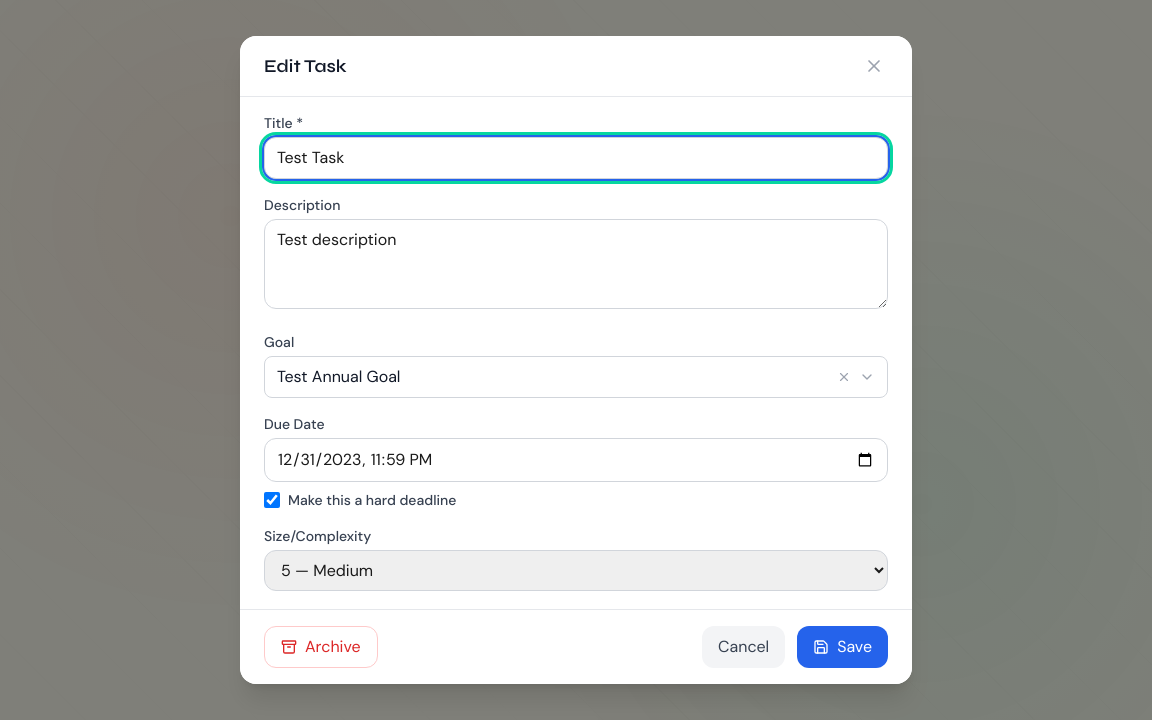
Test: TaskEditDrawer › clears validation errors when form values change
The width and height of the screenshot is (1152, 720).
Create validation error
Clear the field labelled "Title *" at {"x": 576, "y": 158}, box top-left (264, 137), bottom-right (888, 179)
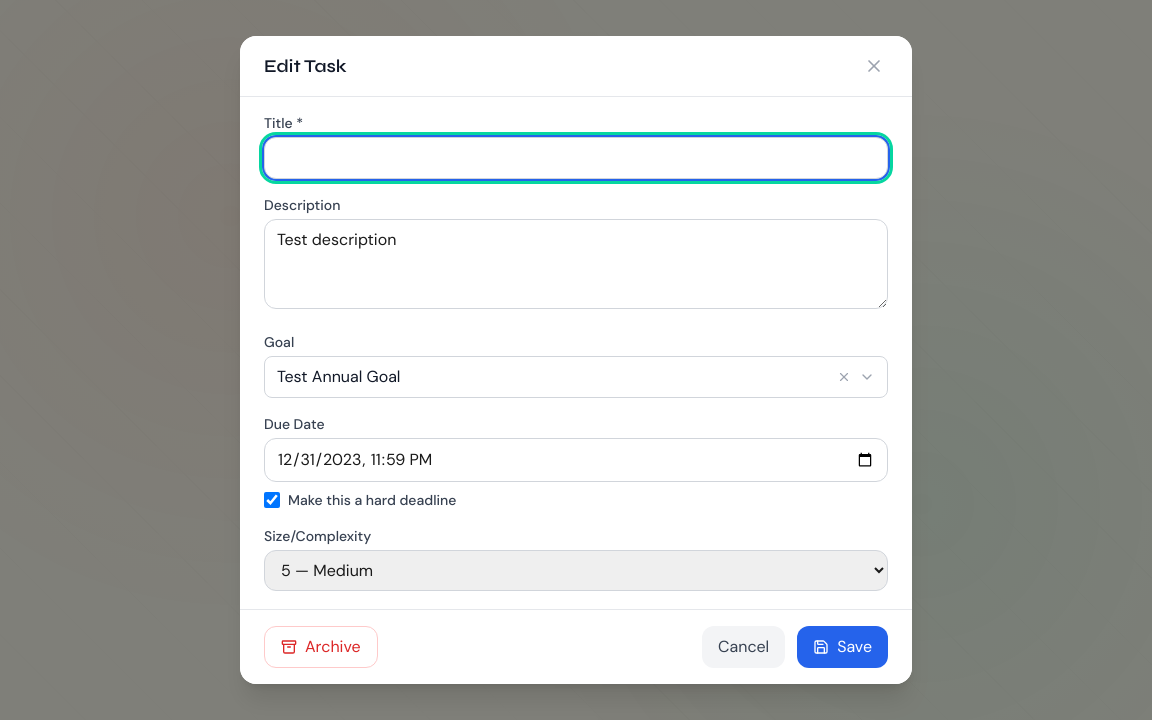
Click the button "Save" at {"x": 843, "y": 647}, box top-left (797, 626), bottom-right (888, 668)
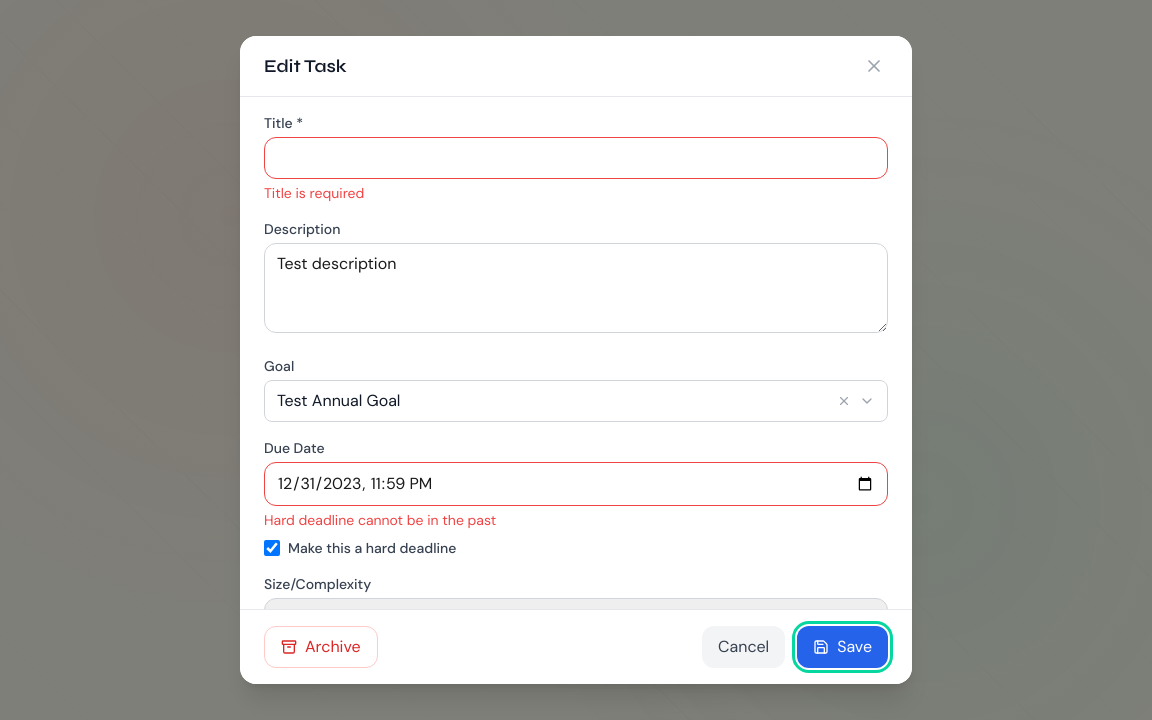
Check: the text "Title is required" is shown, box top-left (264, 184), bottom-right (364, 202)
Fix the error
Type "New title" into the field labelled "Title *" at {"x": 576, "y": 158}, box top-left (264, 137), bottom-right (888, 179)
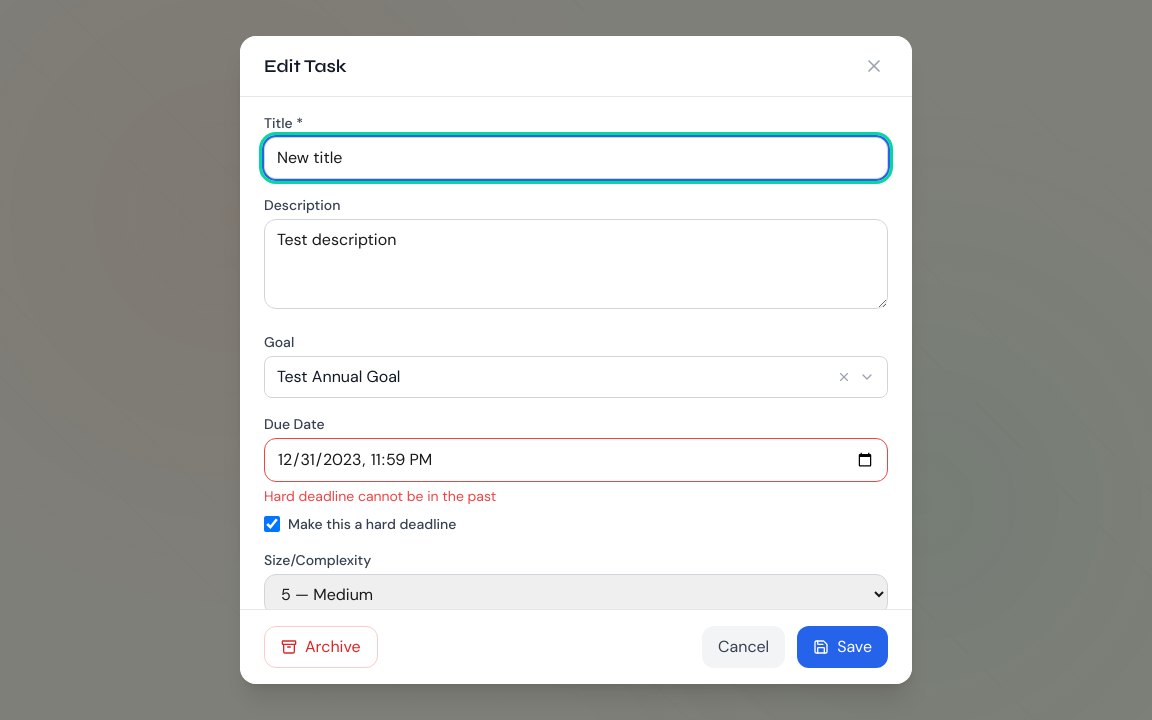
Check: the text "Title is required" is gone
